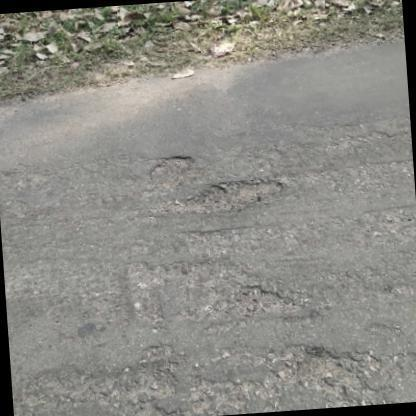pothole: (270, 339, 398, 406), (110, 362, 198, 416), (185, 175, 283, 217), (242, 283, 313, 323), (150, 153, 196, 184)
